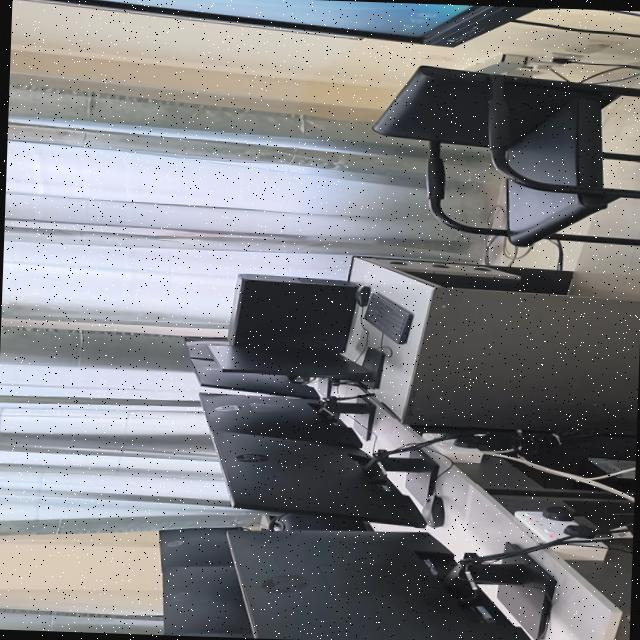Chair: (372, 66, 640, 247)
Cpu: (227, 274, 358, 352)
Digital board: (53, 0, 547, 46)
Keyboard: (362, 293, 411, 344)
Monitor: (227, 531, 529, 640), (211, 430, 424, 527), (198, 392, 361, 448), (203, 342, 369, 381), (162, 565, 249, 633), (190, 358, 317, 399), (158, 528, 231, 571), (184, 339, 226, 361)
